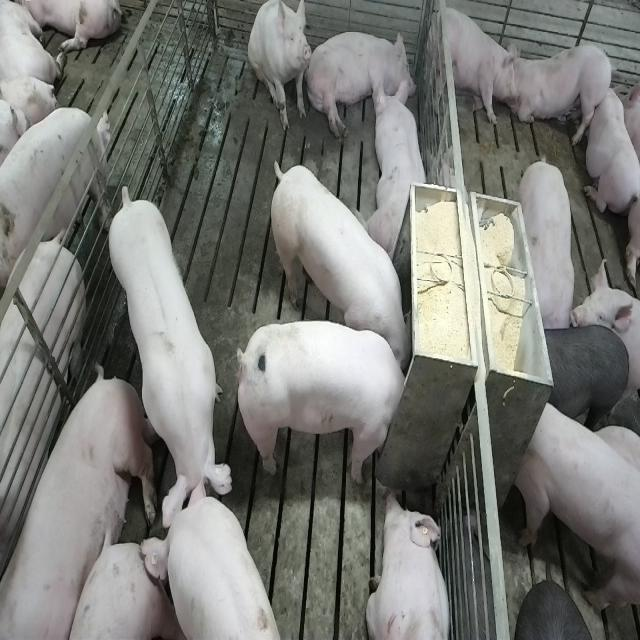Feeding: (264, 160, 412, 370), (232, 318, 408, 484)
Lateral_lying: (4, 368, 158, 640), (304, 27, 418, 139)
Sitting: (248, 2, 314, 134)
Standing: (104, 187, 230, 528), (0, 227, 88, 625), (516, 394, 638, 622), (138, 488, 284, 640), (0, 102, 110, 298), (518, 154, 580, 332), (428, 5, 514, 132), (540, 322, 628, 428)
Sternal_lying: (366, 490, 452, 640), (366, 80, 432, 262), (508, 30, 614, 138), (582, 72, 640, 216)
